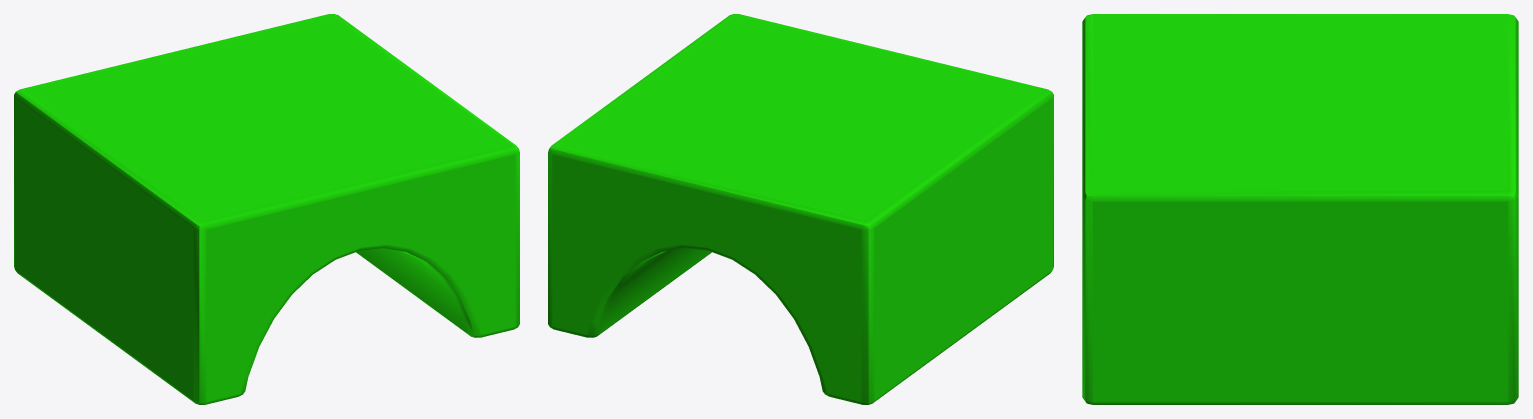
Rendered from SM_Buildingblockbridge.fbx.
3 renders of one model, left to right at view 1: azimuth 30°, elevation 25°; view 2: azimuth 150°, elevation 25°; view 3: azimuth 270°, elevation 25°, orthographic. The views are drawn at different scales.
Parts seen in each view (by area): view 1: SM_Buildingblockbridge; view 2: SM_Buildingblockbridge; view 3: SM_Buildingblockbridge.
Boxes of the visible parts, x1,y1,x2,y2 form: SM_Buildingblockbridge: [14, 14, 519, 404]; SM_Buildingblockbridge: [548, 14, 1053, 404]; SM_Buildingblockbridge: [1082, 14, 1518, 404].
Bounding box in the file's own units: 97.57 × 52.52 × 97.57.
